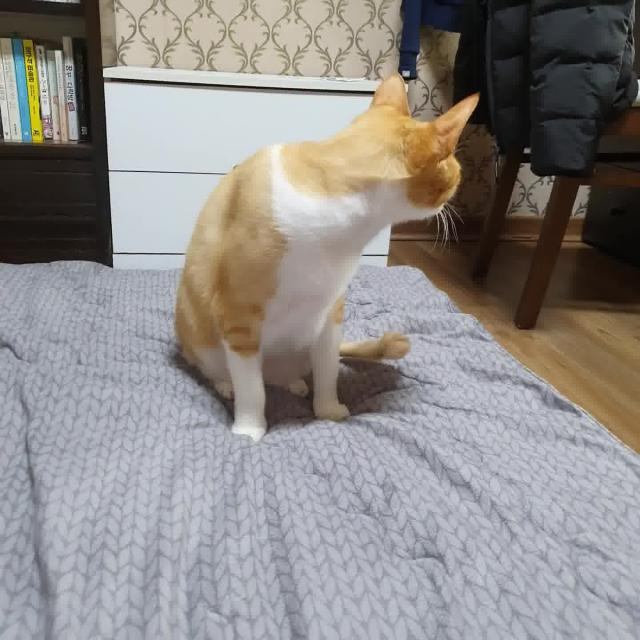cat: (166, 66, 484, 445)
